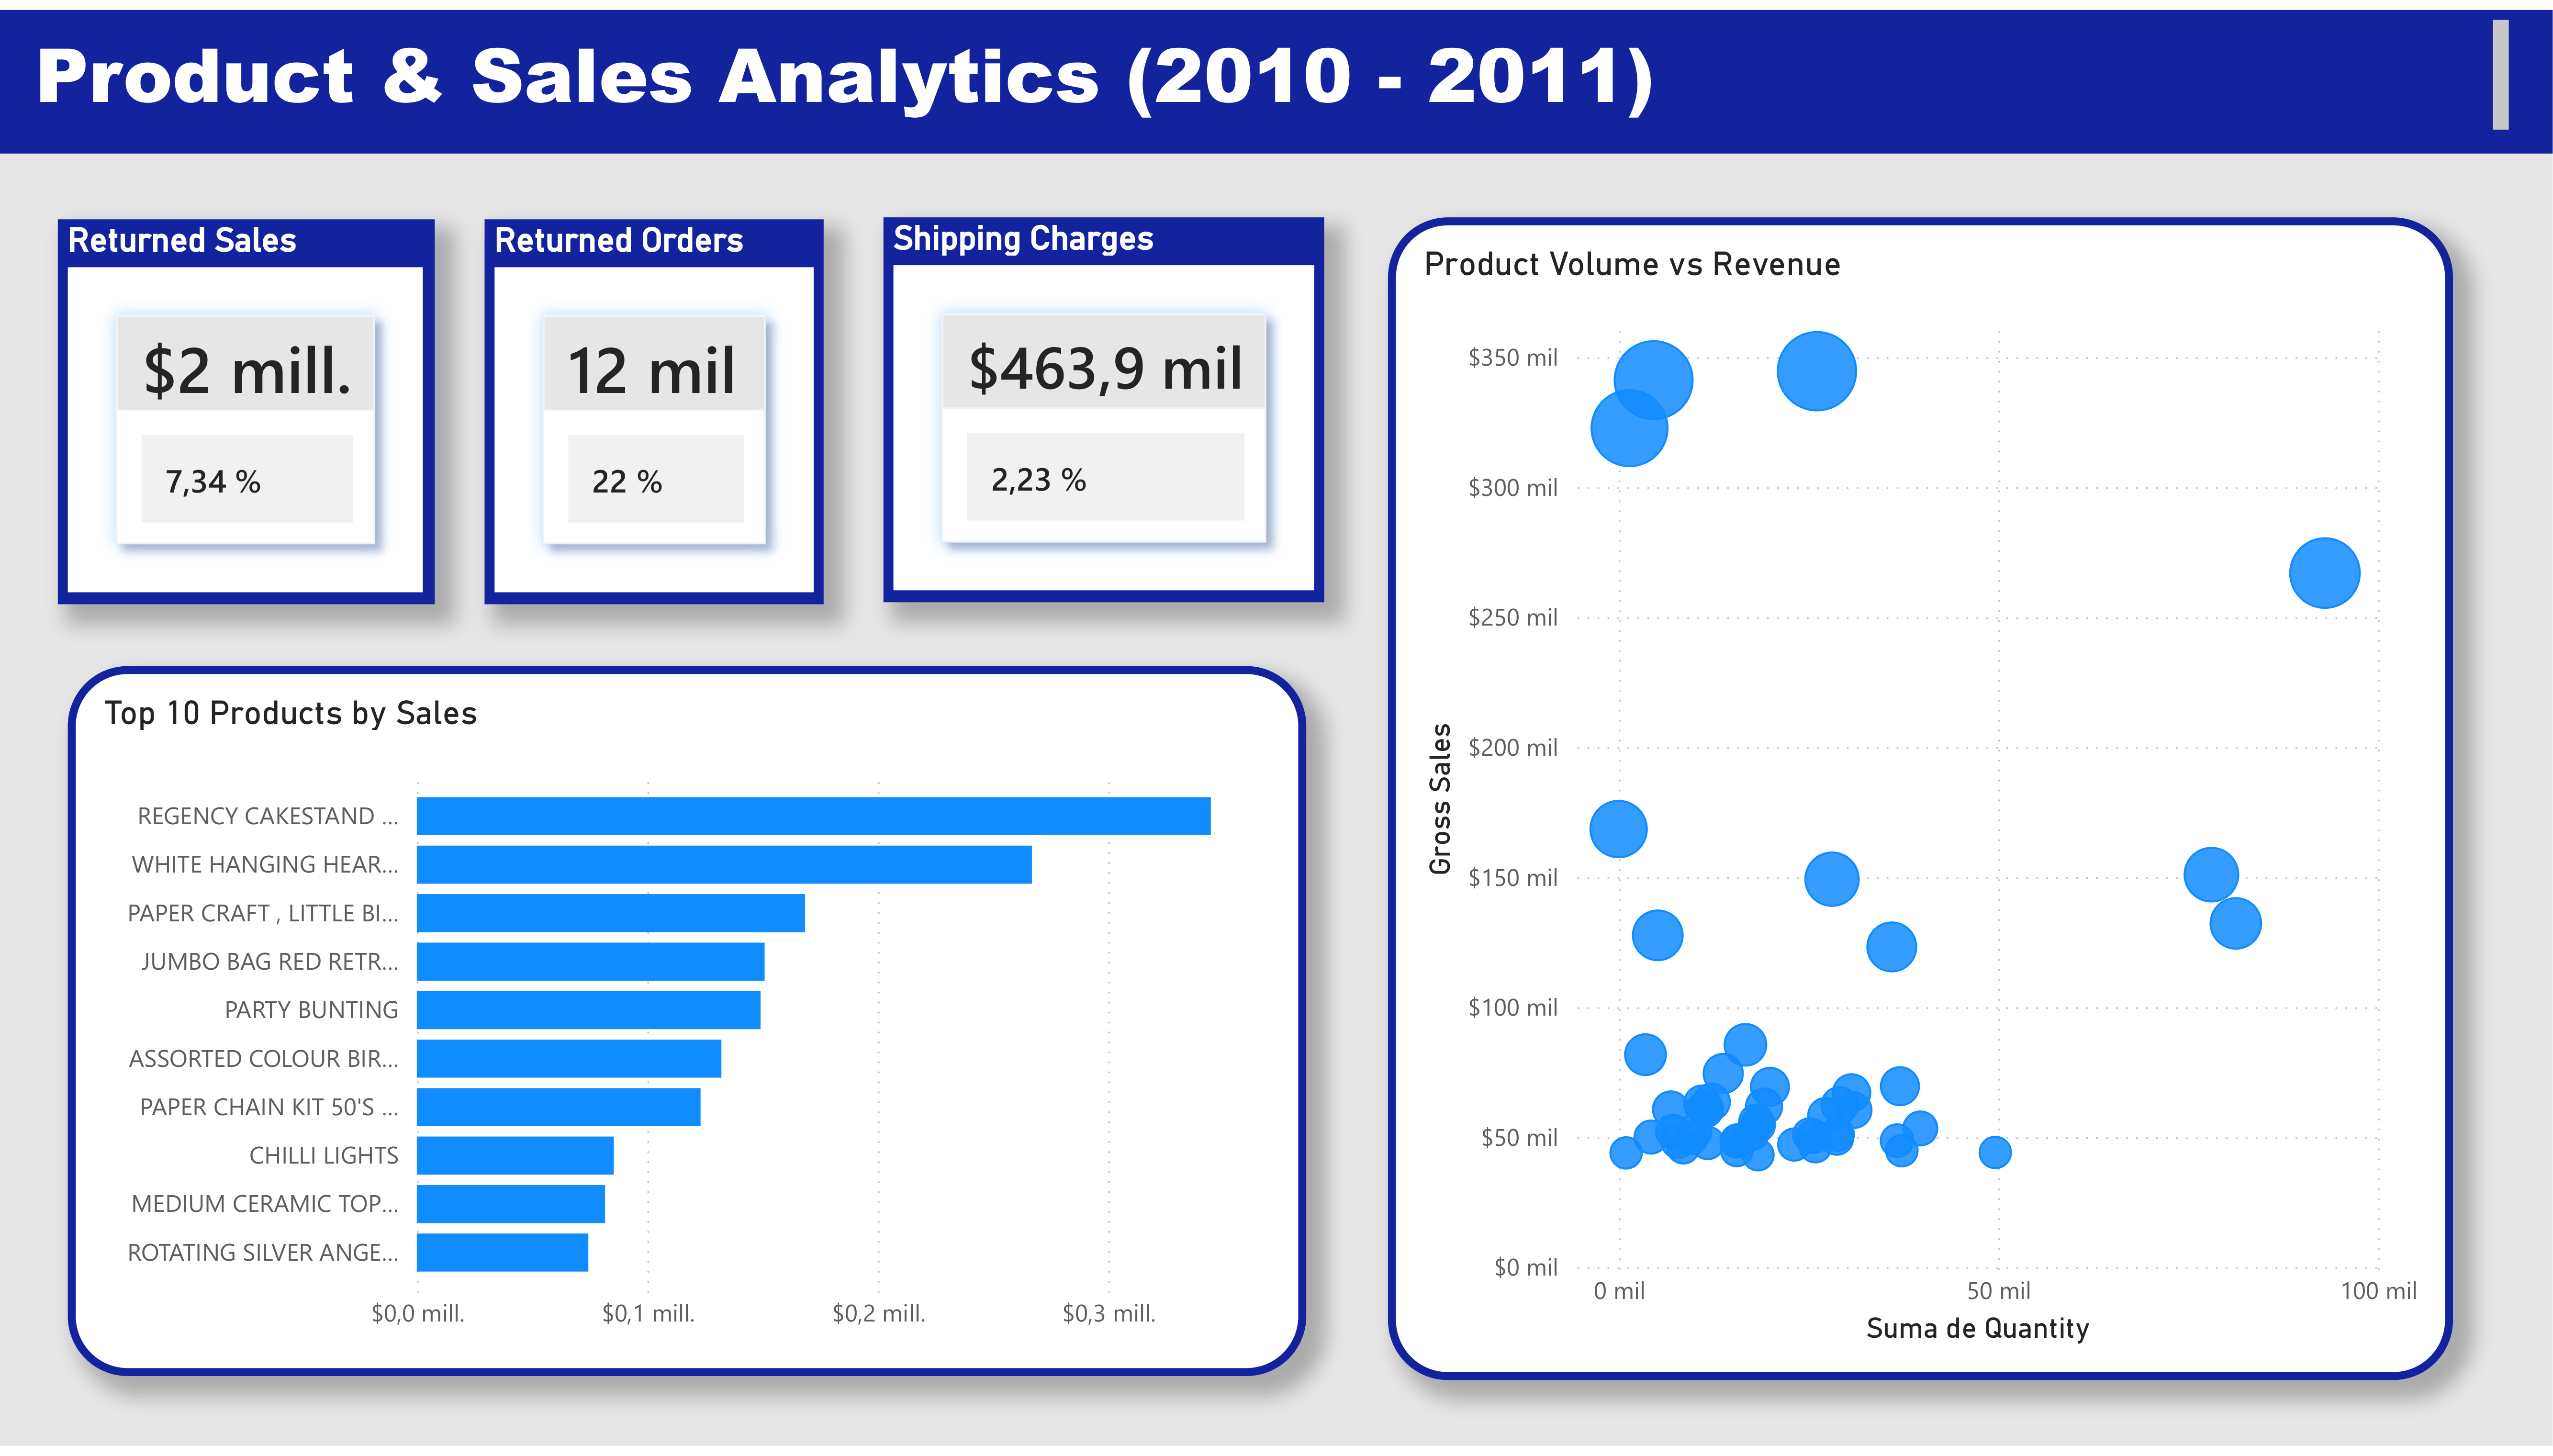

The page's visual inventory and layout, read from the dashboard file:
{"tool":"powerbi","page":{"name":"Product & Sales Analytics","canvas":[1280,720],"ordinal":2},"visuals":[{"type":"shape","box":[0,0,1280,72],"z":0},{"type":"textbox","box":[0,0,1263.2,72],"z":1000},{"type":"cardVisual","title":"Returned Sales","fields":{"Data":["_Measures.Returned Sales"]},"box":[15.7,105.7,180,192.9],"z":2000,"group":"g1"},{"type":"clusteredBarChart","title":"Top 10 Products by Sales","fields":{"Category":["Fact_Sales.Description"],"Y":["_Measures.Gross Sales"]},"box":[34.3,328.6,621.4,355.7],"z":2000},{"type":"scatterChart","title":"Product Volume vs Revenue","fields":{"Category":["Fact_Sales.Description"],"Size":["_Measures.Gross Sales"],"X":["Sum(Fact_Sales.Quantity)"],"Y":["_Measures.Gross Sales"]},"box":[695.7,104.3,534.3,582.9],"z":3000},{"type":"cardVisual","title":"Returned Orders","fields":{"Data":["_Measures.Returned Orders"]},"box":[241.4,105.7,170,192.9],"z":3000,"group":"g1"},{"type":"group","id":"g1","title":"Group 1","box":[15.7,105.7,640,192.9],"z":4000},{"type":"cardVisual","title":"Shipping Charges","fields":{"Data":["_Measures.Shipping Costs"]},"box":[450,105.7,205.7,192.9],"z":6001,"group":"g1"}]}

Visuals, with their boxes in screenshot pixels (x1, y1, x2, y2), scaled from the page's 1280x720 canvas onto the 2553x1456 screenshot:
shape: region(0, 0, 2553, 146)
textbox: region(0, 0, 2519, 146)
"Returned Sales" cardVisual: region(31, 214, 391, 604)
"Top 10 Products by Sales" clusteredBarChart: region(68, 664, 1308, 1384)
"Product Volume vs Revenue" scatterChart: region(1388, 211, 2453, 1389)
"Returned Orders" cardVisual: region(481, 214, 820, 604)
"Group 1" group: region(31, 214, 1308, 604)
"Shipping Charges" cardVisual: region(897, 214, 1308, 604)
